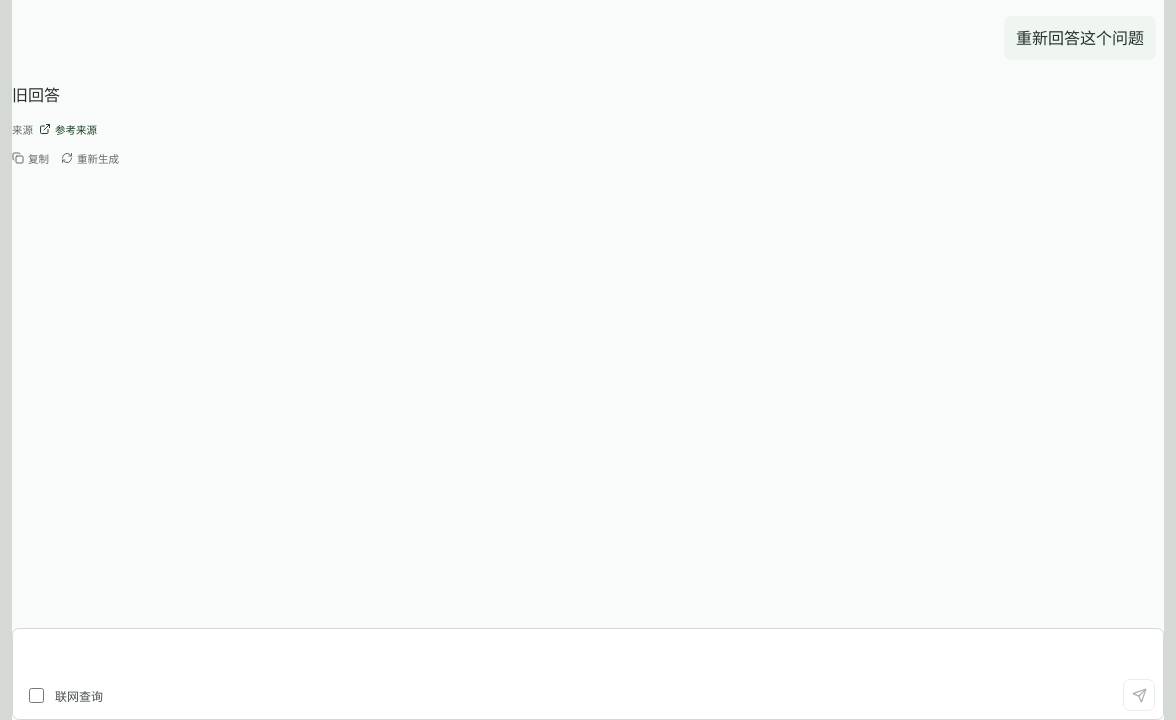
Test: AiConversation › copies the final Markdown and regenerates the latest answer in place
Click the button with aria-label "复制回答": {"x": 30, "y": 158} [12,148,49,169]
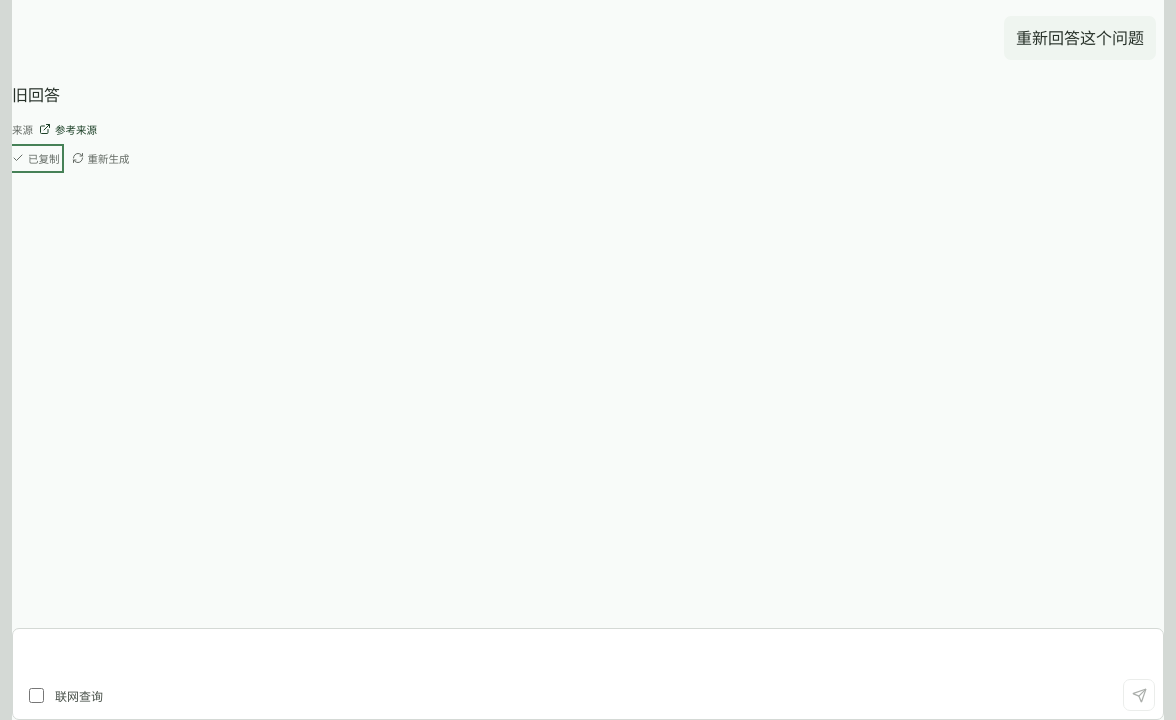
Now the text "已复制" is shown, box [28,151,60,166]
Click the button with aria-label "重新生成回答": {"x": 100, "y": 158} [72,148,130,169]
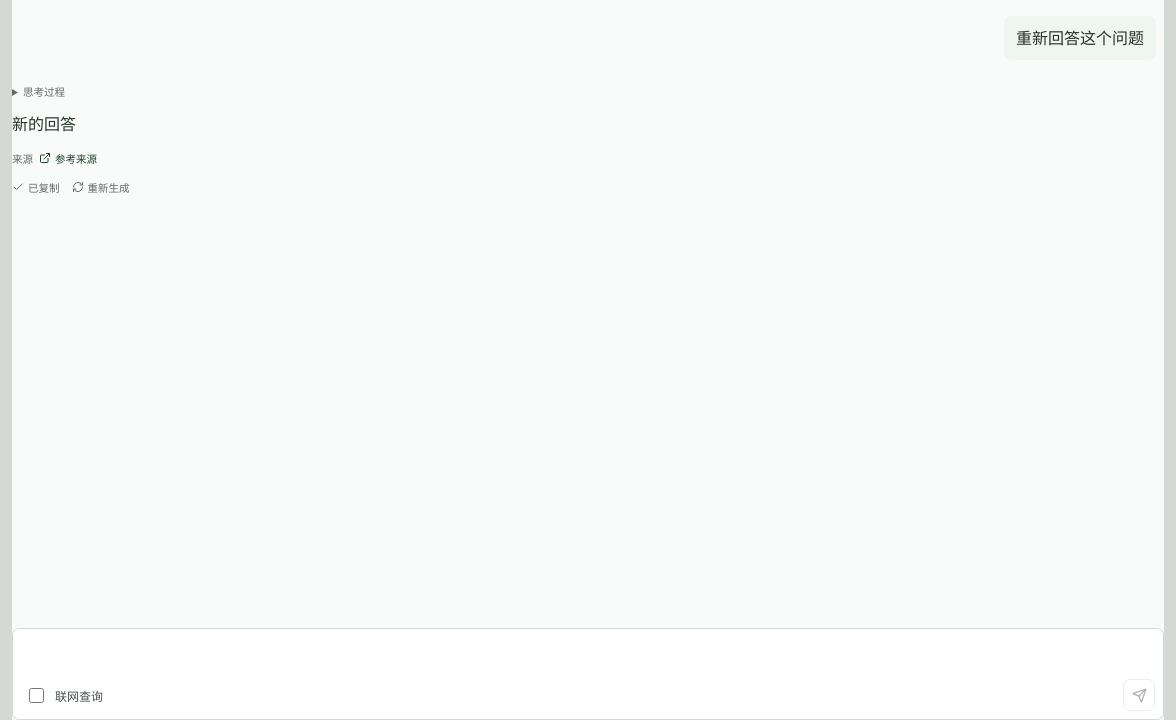
Expected: the number of elements named "我的消息" is 1, [1004,16,1156,60]
Now the text "新的回答" is shown, box [12,114,76,134]
Now the text "旧回答" is gone
